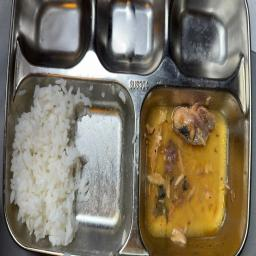25_fish: (139, 84, 240, 251)
50_rice: (16, 73, 129, 248)
empty: (98, 1, 158, 68), (24, 0, 83, 61), (180, 9, 232, 72)
